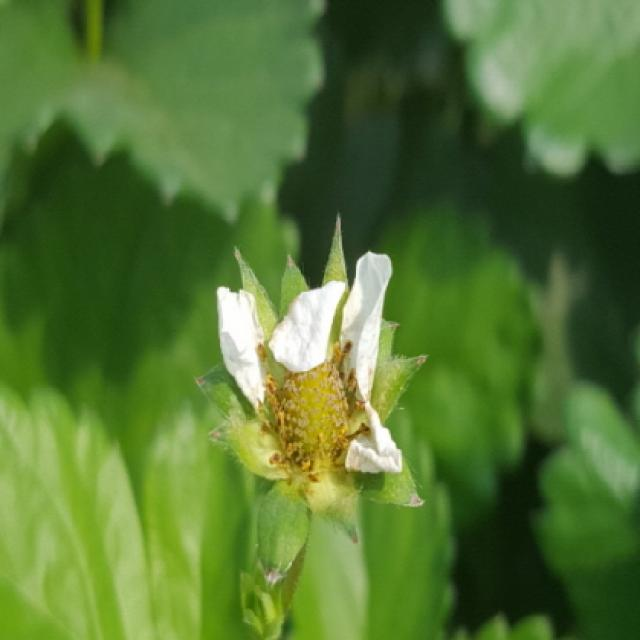Blossom Blight: (254, 340, 374, 488)
